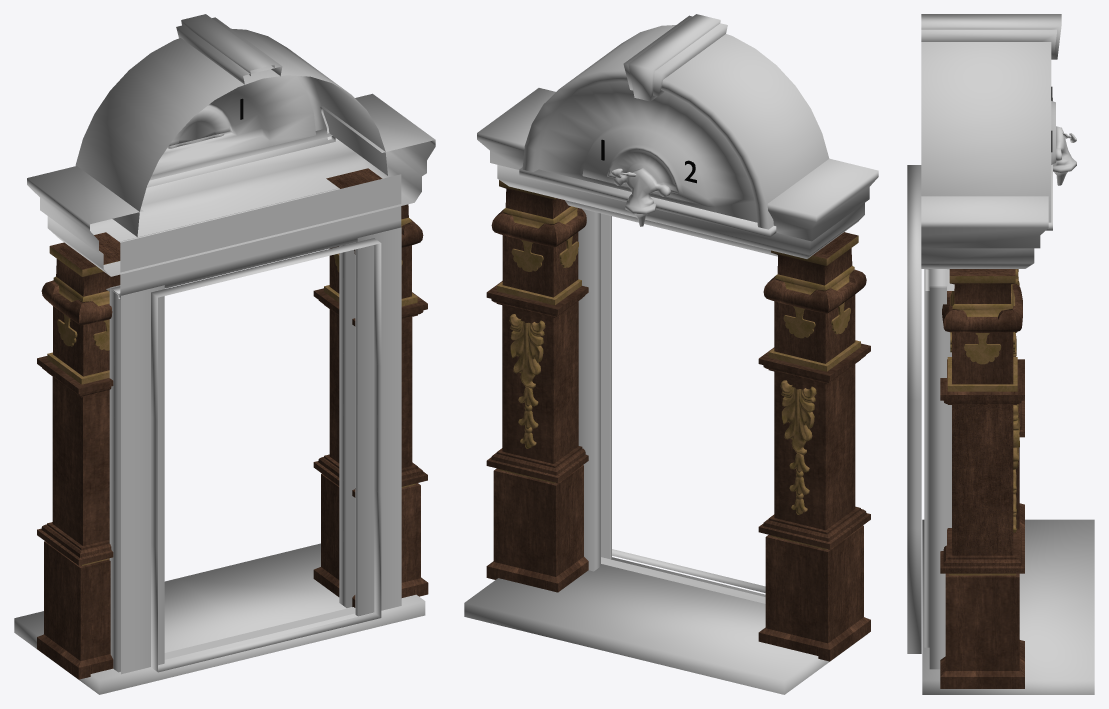
File: Marco1.fbx
3 renders of one model, left to right at view 1: azimuth 30°, elevation 25°; view 2: azimuth 150°, elevation 25°; view 3: azimuth 270°, elevation 25°, orthographic. The views are drawn at different scales.
Parts seen in each view (by area): view 1: 1D_FRZ_42; view 2: 1D_FRZ_42; view 3: 1D_FRZ_42.
Boxes of the visible parts, left/top/right/bottom form: 1D_FRZ_42: left=14, top=14, right=435, bottom=694; 1D_FRZ_42: left=464, top=14, right=878, bottom=694; 1D_FRZ_42: left=907, top=14, right=1094, bottom=694.
Bounding box in the file's own units: 207 × 332 × 94.92.
